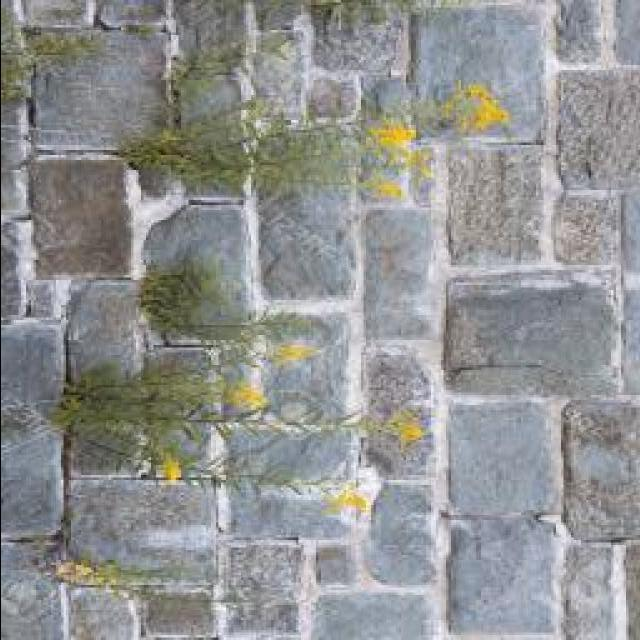crack: (2, 0, 638, 638), (33, 32, 169, 150), (138, 203, 257, 325), (28, 157, 136, 280), (255, 178, 363, 301), (444, 146, 554, 264), (128, 343, 229, 441), (556, 69, 640, 184), (62, 279, 146, 392), (19, 0, 46, 338), (536, 0, 567, 290), (1, 412, 67, 537), (305, 1, 407, 78), (178, 1, 277, 78), (50, 413, 83, 621), (2, 319, 68, 417), (218, 539, 309, 610), (551, 188, 626, 272), (556, 0, 615, 63), (18, 0, 99, 35), (1, 102, 35, 185), (24, 271, 72, 325)
dampness: (61, 332, 219, 628)
vegetation: (117, 36, 359, 196), (118, 257, 244, 522), (357, 81, 510, 197)
